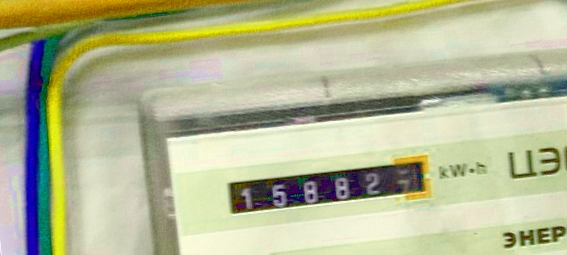1: (239, 186, 255, 212)
2: (364, 170, 382, 197)
5: (269, 182, 288, 209)
7: (396, 177, 411, 194)
8: (300, 179, 320, 205), (332, 174, 350, 200)
screen: (213, 146, 444, 229)
